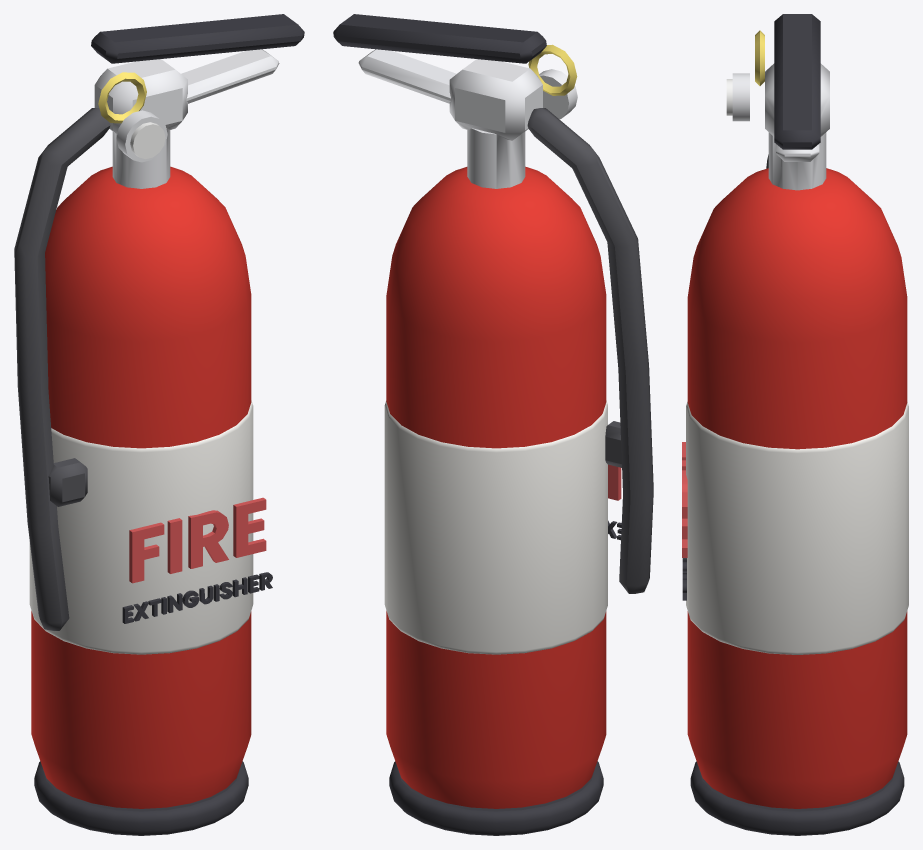
The model's file is kr_extinguisher2.glb.
The picture shows the model from 3 angles, left to right: view 1: azimuth 30°, elevation 25°; view 2: azimuth 150°, elevation 25°; view 3: azimuth 270°, elevation 25°; orthographic projection.
Visible parts, largest first — view 1: vc_m0_r2, vc_m0_r4, vc_m0_r8, vc_m8_r2; view 2: vc_m0_r2, vc_m0_r4, vc_m0_r8, vc_m8_r2; view 3: vc_m0_r2, vc_m0_r4, vc_m8_r2.
Boxes of the visible parts, x1,y1,x2,y2 form: vc_m0_r2: (31, 122, 251, 808); vc_m0_r4: (29, 14, 304, 835); vc_m0_r8: (14, 108, 110, 630); vc_m8_r2: (94, 49, 279, 188); vc_m0_r2: (386, 166, 606, 808); vc_m0_r4: (333, 14, 621, 835); vc_m0_r8: (527, 108, 653, 593); vc_m8_r2: (358, 49, 577, 188); vc_m0_r2: (687, 79, 907, 808); vc_m0_r4: (682, 14, 908, 835); vc_m8_r2: (732, 63, 829, 190).
Bounding box in the file's own units: 0.2335 × 0.5832 × 0.1572.
